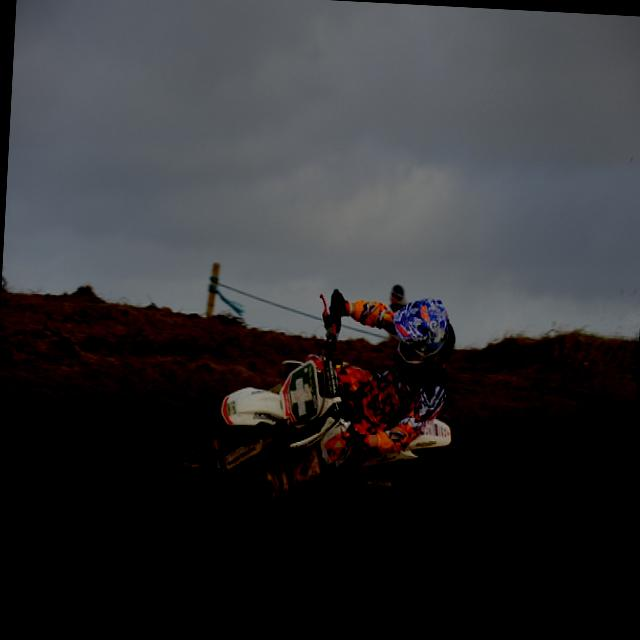Vehicle: (162, 284, 460, 520)
